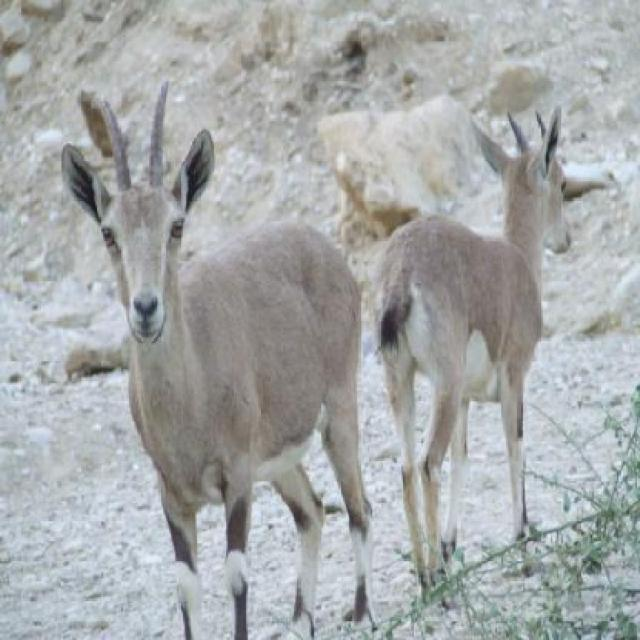Deer: (60, 78, 375, 639), (374, 104, 572, 610)
